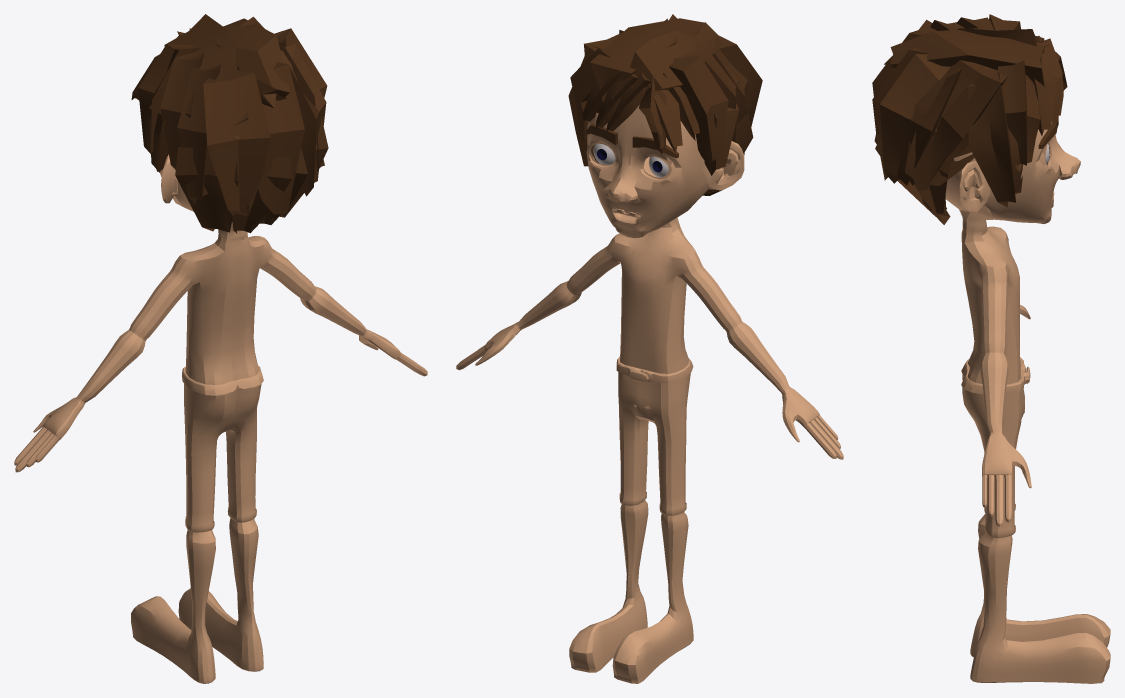
File: boyfinal1.fbx
The picture shows the model from 3 angles, left to right: view 1: azimuth 30°, elevation 25°; view 2: azimuth 150°, elevation 25°; view 3: azimuth 270°, elevation 25°; orthographic projection. The views are drawn at different scales.
Visible parts, largest first — view 1: menino_polySurface18_menino_polySurface49_polySurface5_menin, menino_polySurface18_menino_polySurface45_menino_polySurface, menino_polySurface18_menino_polySurface56_menino_polySurface, menino_polySurface18_menino_polySurface57_menino_polySurface, menino_polySurface18_menino_polySurface54_menino_polySurface, menino_polySurface18_menino_polySurface58_menino_polySurface, menino_polySurface18_menino_polySurface74_menino_polySurface, menino_polySurface18_menino_polySurface70_menino_polySurface, menino_polySurface18_menino_polySurface60_menino_polySurface, menino_polySurface18_menino_polySurface59_menino_polySurface, menino_polySurface18_menino_polySurface55_menino_polySurface, menino_polySurface18_menino_polySurface73_menino_polySurface (+2 smaller); view 2: menino_polySurface18_menino_polySurface49_polySurface5_menin, menino_polySurface18_menino_polySurface45_menino_polySurface, menino_polySurface18_menino_polySurface59_menino_polySurface, menino_polySurface18_menino_polySurface54_menino_polySurface, menino_polySurface18_menino_polySurface55_menino_polySurface, menino_polySurface18_menino_polySurface56_menino_polySurface, menino_polySurface18_menino_polySurface67_menino_polySurface, menino_polySurface18_menino_polySurface60_menino_polySurface, menino_polySurface18_menino_polySurface58_menino_polySurface, menino_polySurface18_menino_polySurface61_menino_polySurface, menino_polySurface18_menino_polySurface62_menino_polySurface, menino_polySurface18_menino_polySurface65_menino_polySurface (+5 smaller); view 3: menino_polySurface18_menino_polySurface49_polySurface5_menin, menino_polySurface18_menino_polySurface69_menino_polySurface, menino_polySurface18_menino_polySurface70_menino_polySurface, menino_polySurface18_menino_polySurface54_menino_polySurface, menino_polySurface18_menino_polySurface68_menino_polySurface, menino_polySurface18_menino_polySurface45_menino_polySurface, menino_polySurface18_menino_polySurface67_menino_polySurface, menino_polySurface18_menino_polySurface71_menino_polySurface, menino_polySurface18_menino_polySurface66_menino_polySurface, menino_polySurface18_menino_polySurface57_menino_polySurface, menino_polySurface18_menino_polySurface55_menino_polySurface, menino_polySurface18_menino_polySurface56_menino_polySurface (+1 smaller).
Boxes of the visible parts, x1,y1,x2,y2 form: menino_polySurface18_menino_polySurface49_polySurface5_menin: (14, 154, 427, 683); menino_polySurface18_menino_polySurface45_menino_polySurface: (182, 365, 263, 532); menino_polySurface18_menino_polySurface56_menino_polySurface: (203, 70, 270, 216); menino_polySurface18_menino_polySurface57_menino_polySurface: (258, 62, 304, 214); menino_polySurface18_menino_polySurface54_menino_polySurface: (214, 18, 289, 108); menino_polySurface18_menino_polySurface58_menino_polySurface: (177, 64, 220, 205); menino_polySurface18_menino_polySurface74_menino_polySurface: (175, 147, 238, 232); menino_polySurface18_menino_polySurface70_menino_polySurface: (280, 44, 326, 196); menino_polySurface18_menino_polySurface60_menino_polySurface: (160, 52, 204, 169); menino_polySurface18_menino_polySurface59_menino_polySurface: (138, 44, 199, 153); menino_polySurface18_menino_polySurface55_menino_polySurface: (164, 14, 248, 139); menino_polySurface18_menino_polySurface73_menino_polySurface: (232, 156, 291, 233); menino_polySurface18_menino_polySurface49_polySurface5_menin: (456, 105, 843, 683); menino_polySurface18_menino_polySurface45_menino_polySurface: (616, 356, 693, 515); menino_polySurface18_menino_polySurface59_menino_polySurface: (668, 55, 728, 166); menino_polySurface18_menino_polySurface54_menino_polySurface: (590, 18, 703, 89); menino_polySurface18_menino_polySurface55_menino_polySurface: (630, 30, 698, 91); menino_polySurface18_menino_polySurface56_menino_polySurface: (695, 22, 762, 126); menino_polySurface18_menino_polySurface67_menino_polySurface: (570, 48, 610, 139); menino_polySurface18_menino_polySurface60_menino_polySurface: (681, 44, 738, 142); menino_polySurface18_menino_polySurface58_menino_polySurface: (694, 35, 747, 154); menino_polySurface18_menino_polySurface61_menino_polySurface: (648, 84, 682, 152); menino_polySurface18_menino_polySurface62_menino_polySurface: (639, 75, 666, 154); menino_polySurface18_menino_polySurface65_menino_polySurface: (606, 72, 650, 131); menino_polySurface18_menino_polySurface49_polySurface5_menin: (945, 121, 1110, 683); menino_polySurface18_menino_polySurface69_menino_polySurface: (905, 60, 1007, 189); menino_polySurface18_menino_polySurface70_menino_polySurface: (879, 54, 961, 185); menino_polySurface18_menino_polySurface54_menino_polySurface: (884, 28, 1044, 86); menino_polySurface18_menino_polySurface68_menino_polySurface: (968, 71, 1022, 207); menino_polySurface18_menino_polySurface45_menino_polySurface: (961, 357, 1030, 537); menino_polySurface18_menino_polySurface67_menino_polySurface: (997, 60, 1040, 172); menino_polySurface18_menino_polySurface71_menino_polySurface: (906, 131, 951, 224); menino_polySurface18_menino_polySurface66_menino_polySurface: (1032, 52, 1056, 135); menino_polySurface18_menino_polySurface57_menino_polySurface: (872, 47, 927, 180); menino_polySurface18_menino_polySurface55_menino_polySurface: (957, 28, 1044, 46); menino_polySurface18_menino_polySurface56_menino_polySurface: (872, 19, 936, 96).
Size of the model in its own units: 145 by 215 by 72.63.
